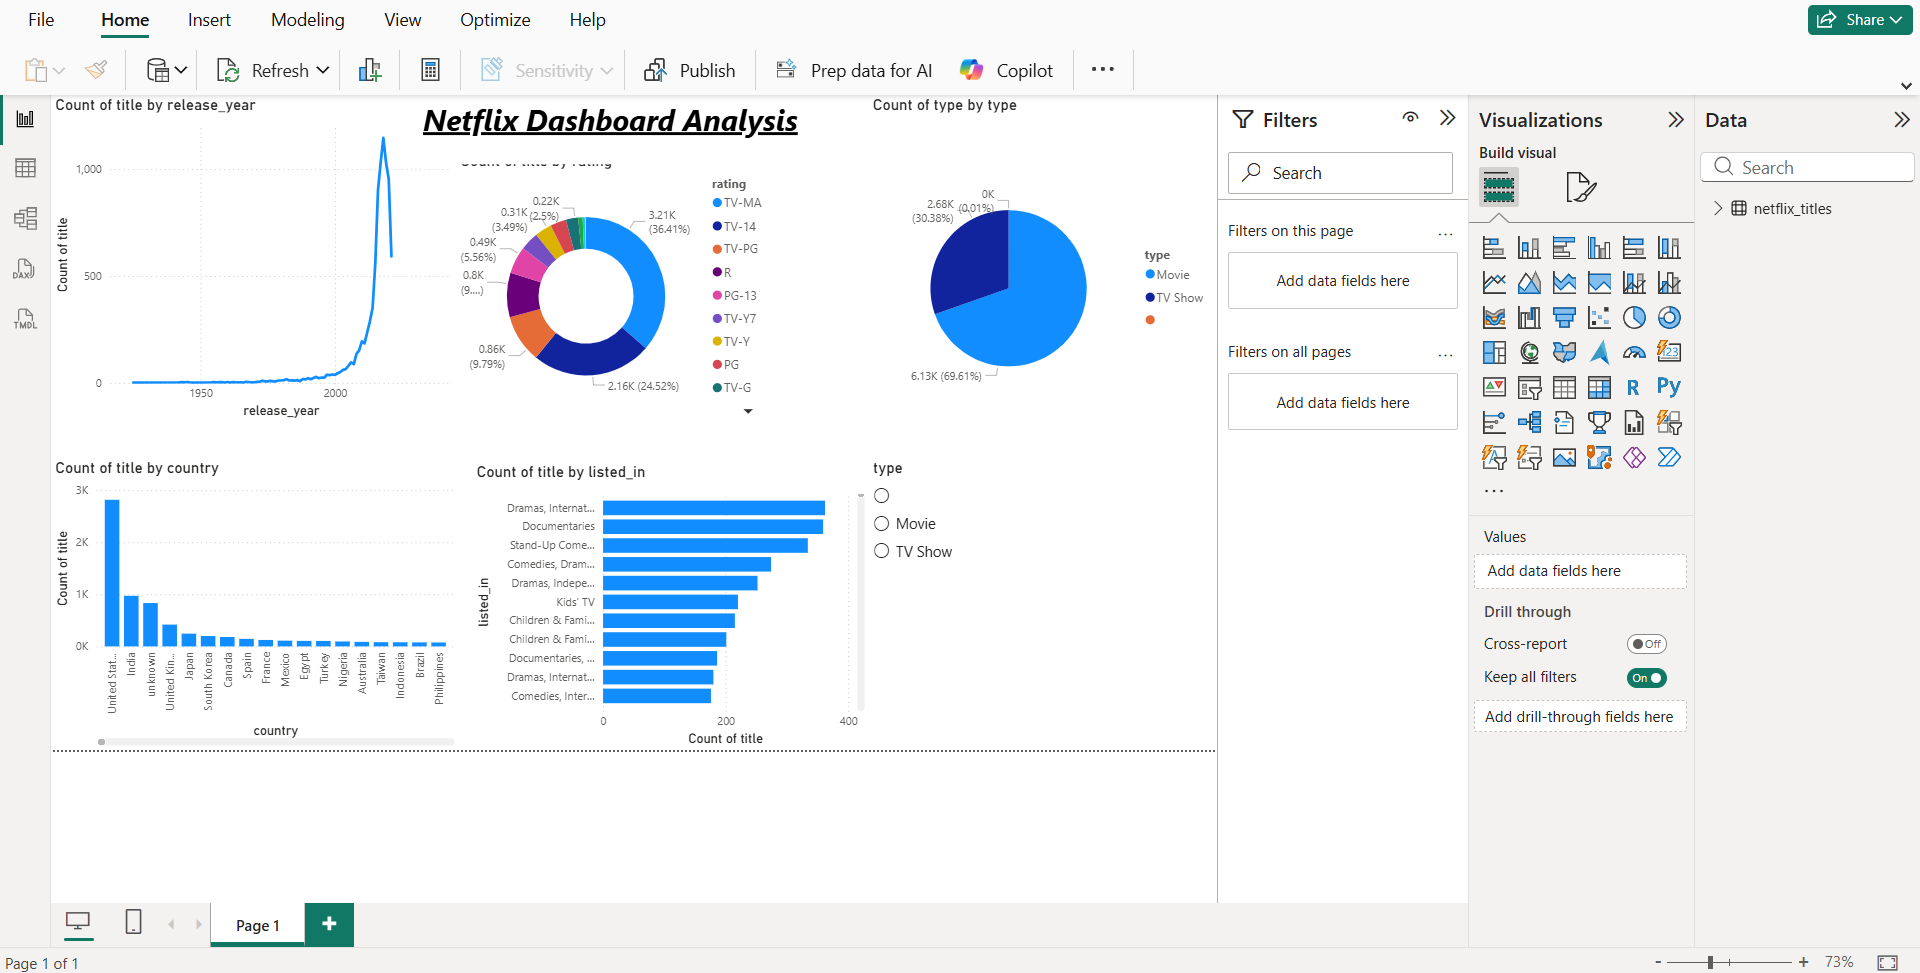

Layout of this report page (visuals, bound fields, positions):
{"tool":"powerbi","page":{"name":"Page 1","canvas":[1280,720],"ordinal":0},"visuals":[{"type":"pieChart","fields":{"Category":["netflix_titles.type"],"Y":["CountNonNull(netflix_titles.type)"]},"box":[898,0,382,404],"z":0},{"type":"lineChart","fields":{"Category":["netflix_titles.release_year"],"Y":["CountNonNull(netflix_titles.title)"]},"box":[0,0,448,360],"z":1000},{"type":"clusteredColumnChart","fields":{"Category":["netflix_titles.country"],"Y":["CountNonNull(netflix_titles.title)"]},"box":[0,400,448,320],"z":2000},{"type":"clusteredBarChart","fields":{"Category":["netflix_titles.listed_in"],"Y":["CountNonNull(netflix_titles.title)"]},"box":[462,404,436,316],"z":3000},{"type":"donutChart","fields":{"Category":["netflix_titles.rating"],"Y":["CountNonNull(netflix_titles.title)"]},"box":[444,62,364,298],"z":4000},{"type":"listSlicer","fields":{"Values":["netflix_titles.type"]},"box":[898,400,382,320],"z":5000},{"type":"textbox","box":[420,0,478,62],"z":8000},{"type":"textbox","box":[404,0,494,76],"z":8001}]}

Visuals, with their boxes on the page's 1280x720 design canvas (x1, y1, x2, y2). These are canvas units, not pixel positions in the 1920x973 screenshot, which may show the page scaled, cropped or inside an application window:
pieChart - netflix_titles.type x CountNonNull(netflix_titles.type): BBox(898, 0, 1280, 404)
lineChart - netflix_titles.release_year x CountNonNull(netflix_titles.title): BBox(0, 0, 448, 360)
clusteredColumnChart - netflix_titles.country x CountNonNull(netflix_titles.title): BBox(0, 400, 448, 720)
clusteredBarChart - netflix_titles.listed_in x CountNonNull(netflix_titles.title): BBox(462, 404, 898, 720)
donutChart - netflix_titles.rating x CountNonNull(netflix_titles.title): BBox(444, 62, 808, 360)
listSlicer - netflix_titles.type: BBox(898, 400, 1280, 720)
textbox: BBox(420, 0, 898, 62)
textbox: BBox(404, 0, 898, 76)
